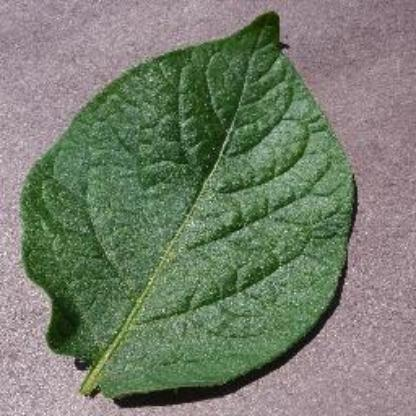Healthy-plant: (20, 8, 370, 400)
